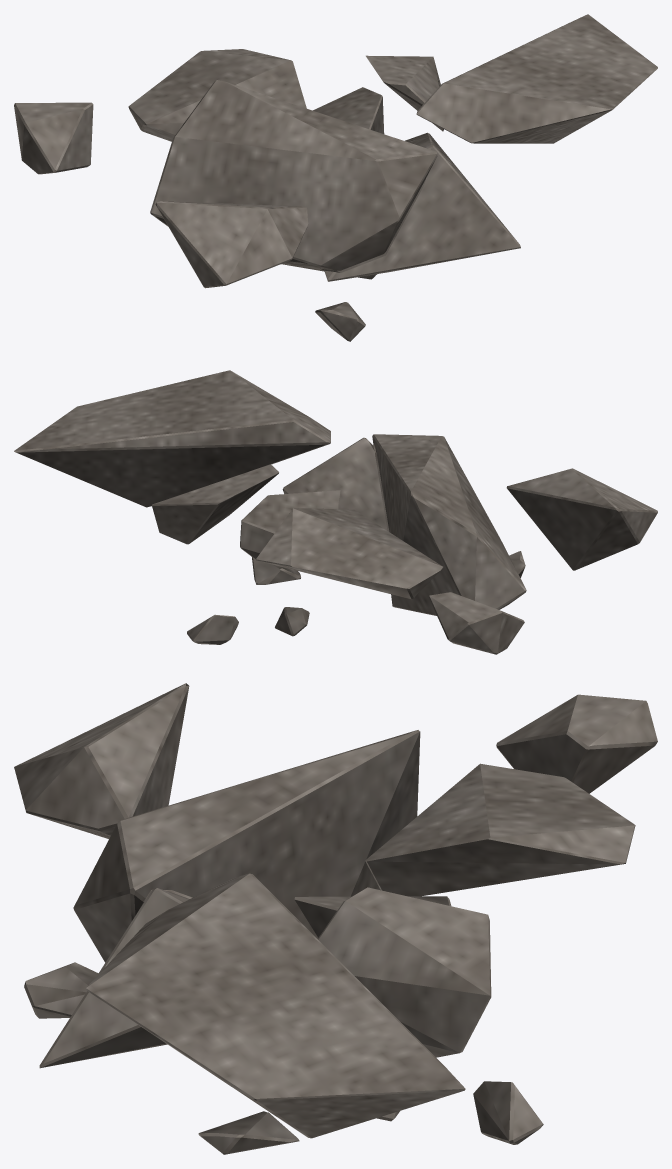
The model's file is boulder_25.glb.
The picture shows the model from 3 angles, top to bottom: view 1: azimuth 30°, elevation 25°; view 2: azimuth 150°, elevation 25°; view 3: azimuth 270°, elevation 25°; orthographic projection. The views are drawn at different scales.
Parts seen in each view (by area): view 1: boulder_25_c0; view 2: boulder_25_c0; view 3: boulder_25_c0.
Part boxes in pixels (left/top/right/bottom): boulder_25_c0: left=14, top=14, right=657, bottom=341; boulder_25_c0: left=14, top=370, right=657, bottom=654; boulder_25_c0: left=14, top=683, right=657, bottom=1154.
Size of the model in its own units: 1.68 by 0.54 by 1.12.
1 material, 1 textured.
